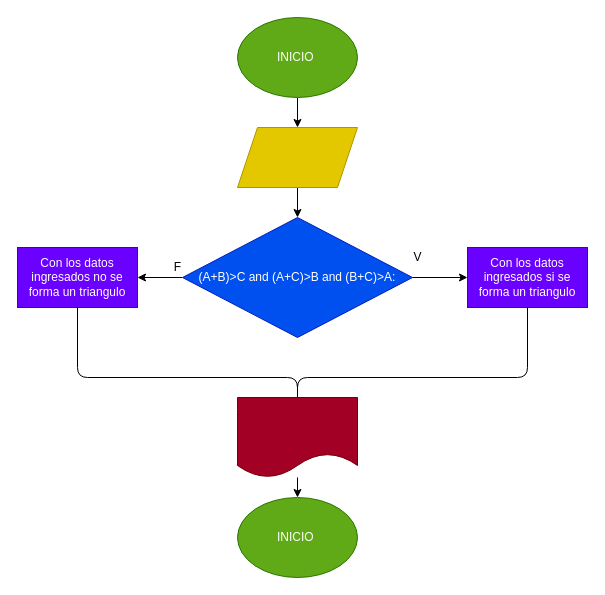
This 605x595 diagram has some shape labels left out. The centre of each missing label's shape, as x and y in pixels:
"a, b y c" goes at point (297, 157).
"Es triangulo o no?" goes at point (297, 437).
